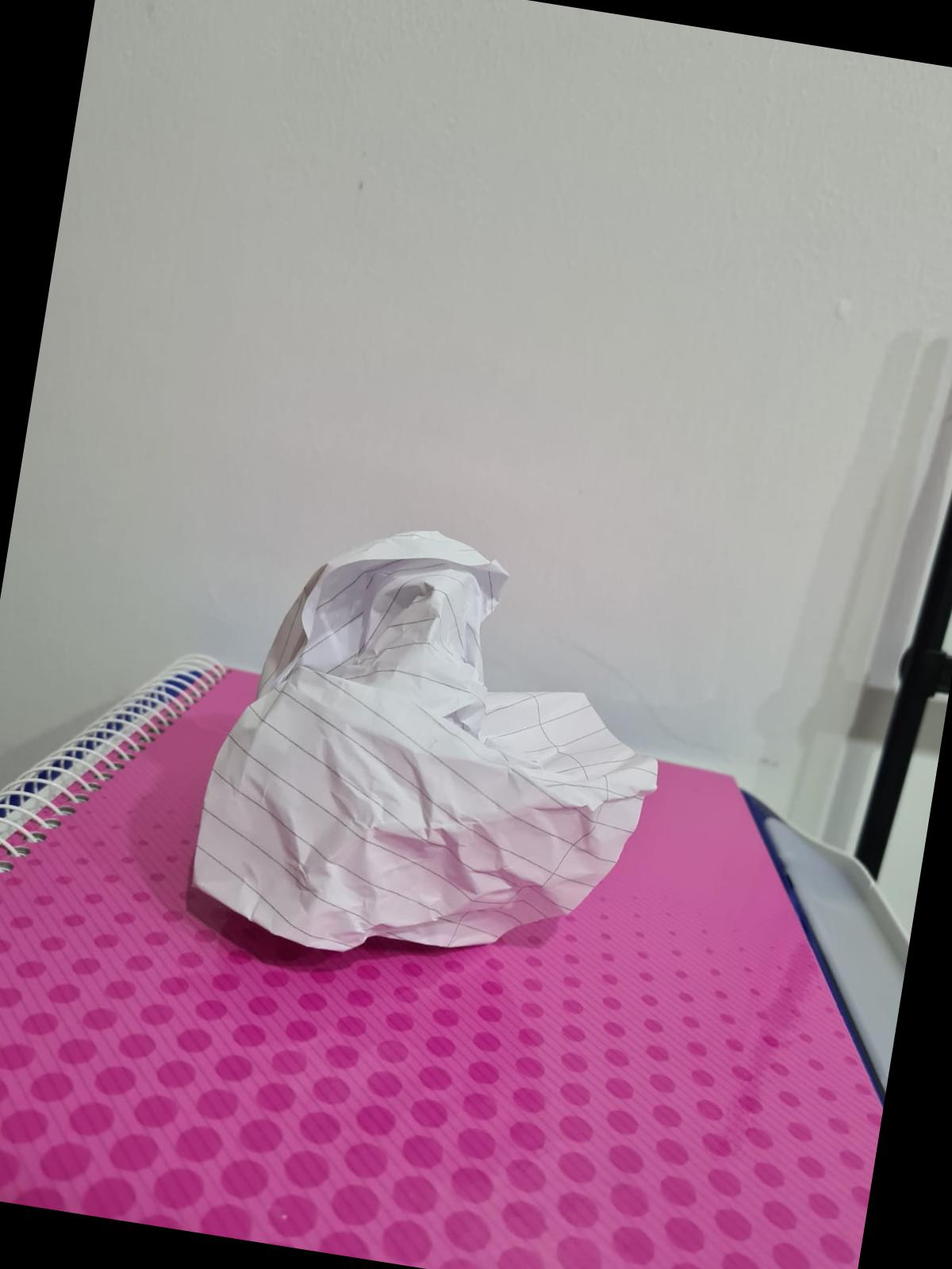Kertas: (174, 525, 663, 967)
